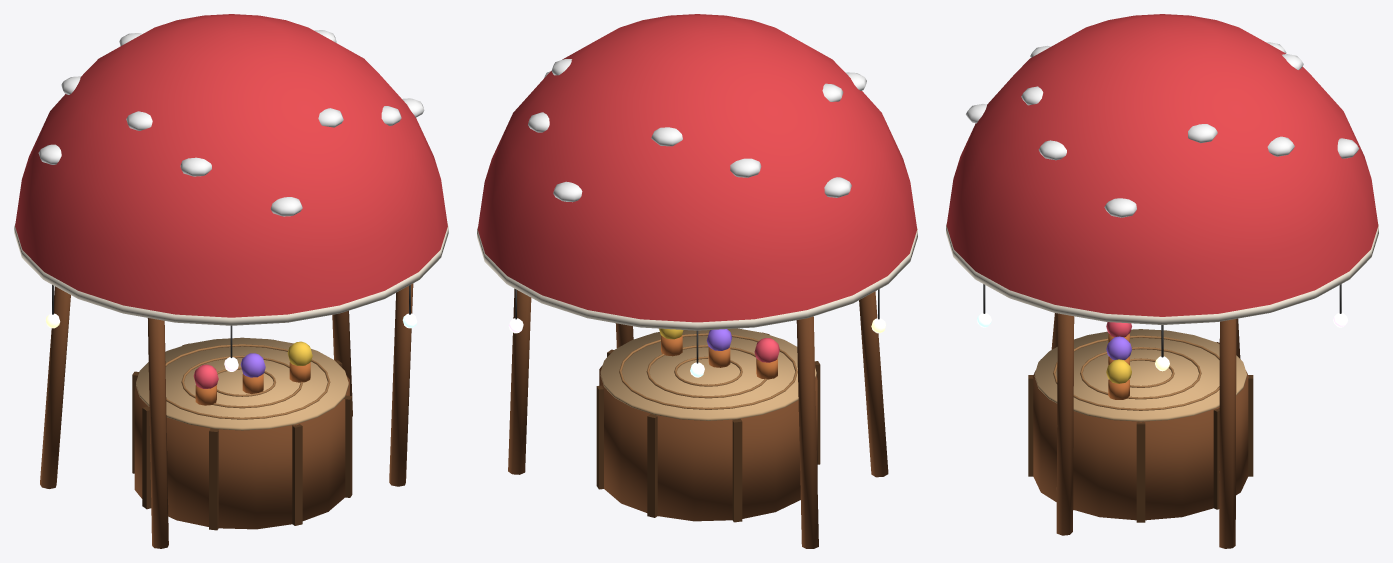
The model's file is stanek-forest.glb.
3 renders of one model, left to right at view 1: azimuth 30°, elevation 25°; view 2: azimuth 150°, elevation 25°; view 3: azimuth 270°, elevation 25°, orthographic.
Visible parts, largest first — view 1: stanek-forest; view 2: stanek-forest; view 3: stanek-forest.
Boxes of the visible parts, <box> form: stanek-forest: <box>14,14,448,548</box>; stanek-forest: <box>477,14,917,548</box>; stanek-forest: <box>946,14,1378,548</box>.
Bounding box in the file's own units: 4 × 4.5 × 4.
4 materials, 4 textured.
